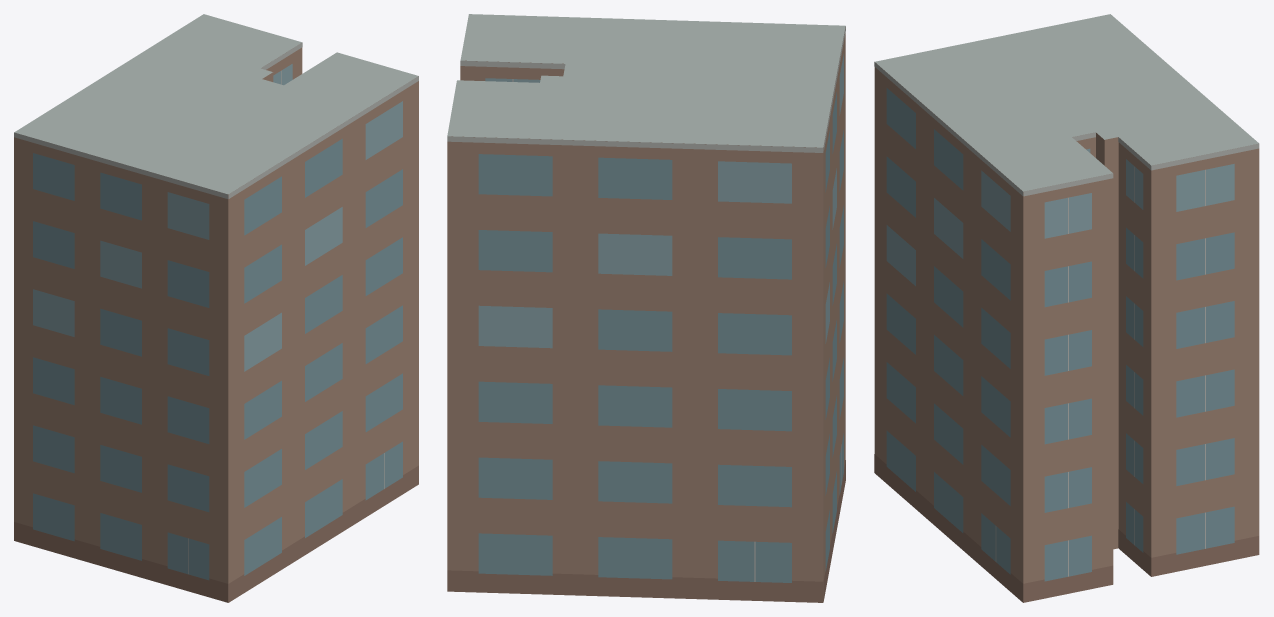
File: survey-upis-32696671.glb
The picture shows the model from 3 angles, left to right: view 1: azimuth 30°, elevation 25°; view 2: azimuth 150°, elevation 25°; view 3: azimuth 270°, elevation 25°; orthographic projection. The views are drawn at different scales.
Parts seen in each view (by area): view 1: survey-upis-32696671.tmp; view 2: survey-upis-32696671.tmp; view 3: survey-upis-32696671.tmp.
Boxes of the visible parts, bbox=[...] form: survey-upis-32696671.tmp: bbox=[14, 14, 418, 602]; survey-upis-32696671.tmp: bbox=[447, 14, 845, 602]; survey-upis-32696671.tmp: bbox=[874, 14, 1259, 602].
Bounding box in the file's own units: 18.99 × 20.5 × 17.39.
